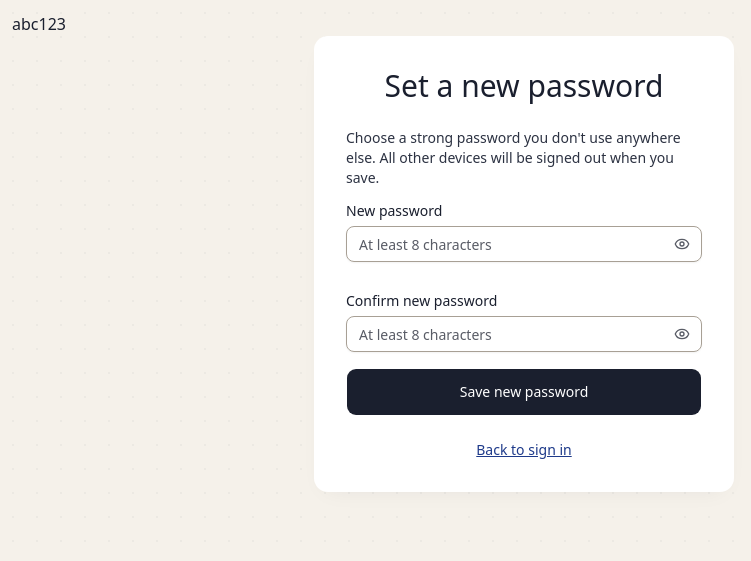
Test: ResetPasswordPage (Story 1-9b AC5 / AC6) › confirm password mismatch shows inline field error + does NOT submit
The image size is (751, 561).
Type "newStrong123" into the password field with test id "reset-new-password" at [524, 244], box [346,226,702,262]
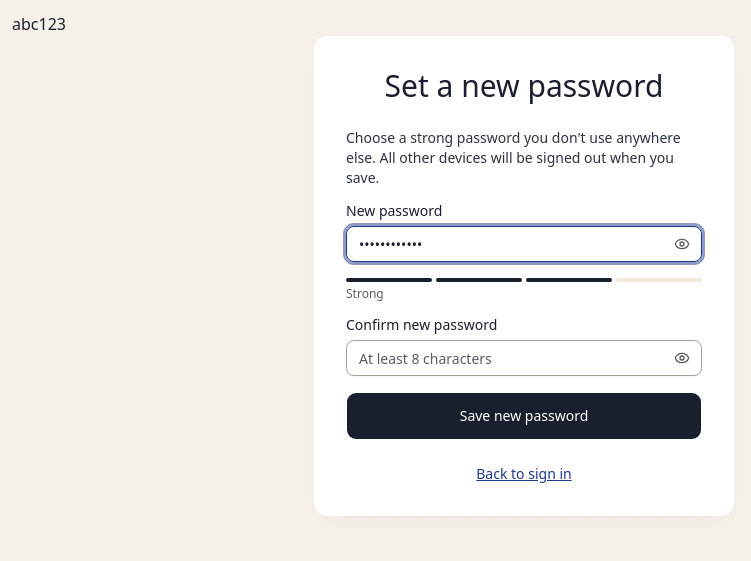
Type "differentPwd" into the password field with test id "reset-confirm-password" at [524, 358], box [346,340,702,376]
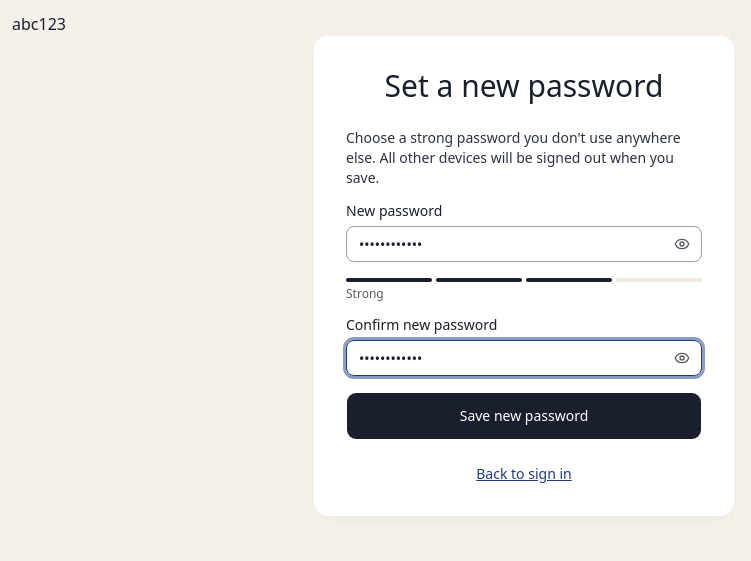
Click the button with test id "reset-submit" at [524, 416], box [346,392,702,440]
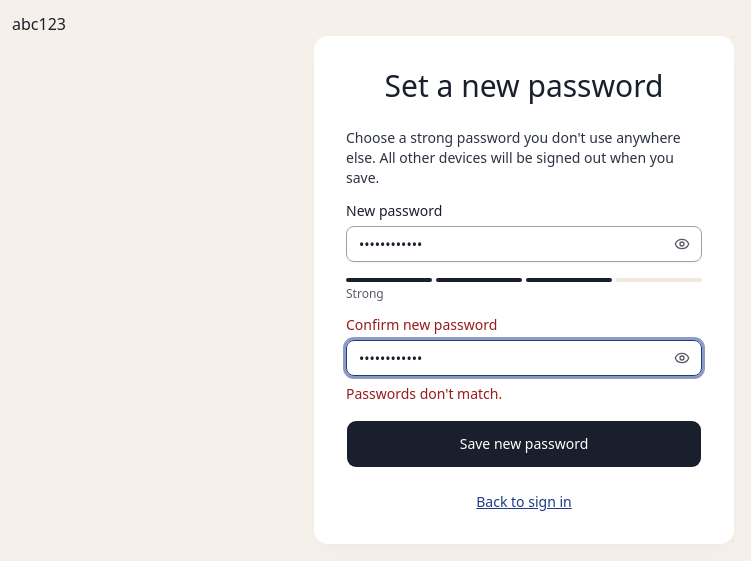
Expected: the text "Passwords don't match." is shown, [346,384,502,403]
